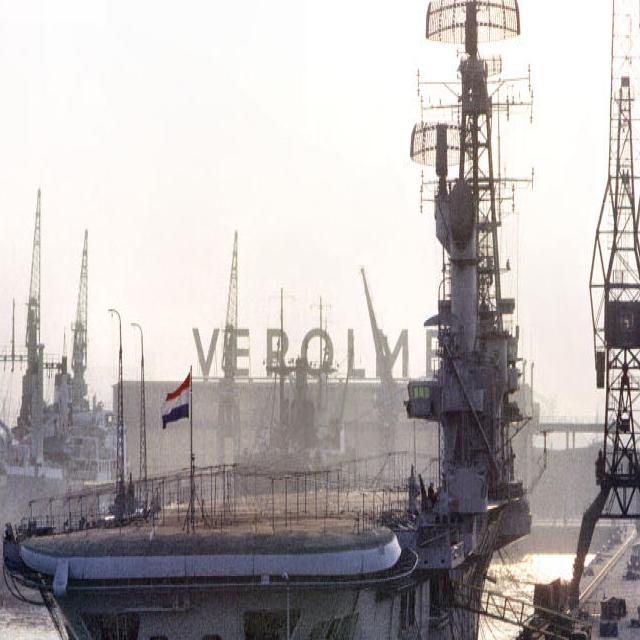Portanaves: (1, 1, 563, 640)
